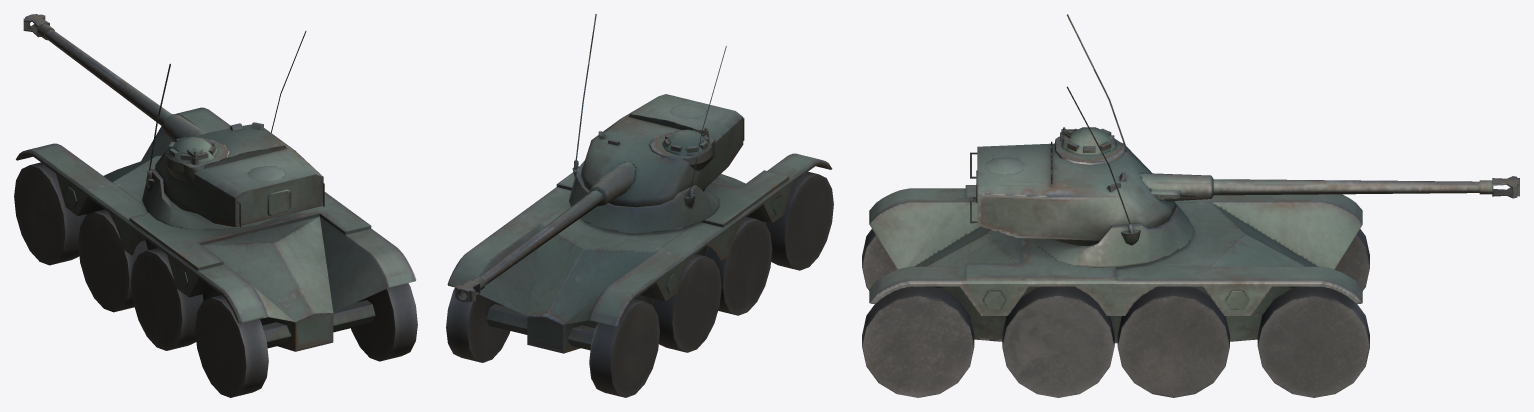
File: EBR-10.fbx
3 views of the same model, side by side, from view 1: azimuth 30°, elevation 25°; view 2: azimuth 150°, elevation 25°; view 3: azimuth 270°, elevation 25° (orthographic). The views are drawn at different scales.
Parts seen in each view (by area): view 1: EBR-10 Turret, EBR-10 Hull; view 2: EBR-10 Turret, EBR-10 Hull; view 3: EBR-10 Turret, EBR-10 Hull.
Part boxes in pixels (x1,y1,x2,y2): EBR-10 Turret: (14, 107, 417, 397); EBR-10 Hull: (23, 14, 324, 229); EBR-10 Turret: (446, 153, 833, 397); EBR-10 Hull: (455, 14, 744, 302); EBR-10 Turret: (862, 185, 1369, 397); EBR-10 Hull: (970, 14, 1519, 267).
Size of the model in its own units: 2.44 by 3.61 by 7.12.
